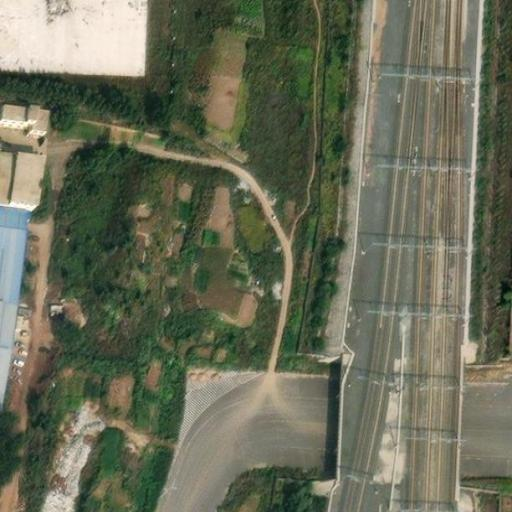building: (0, 207, 31, 415)
